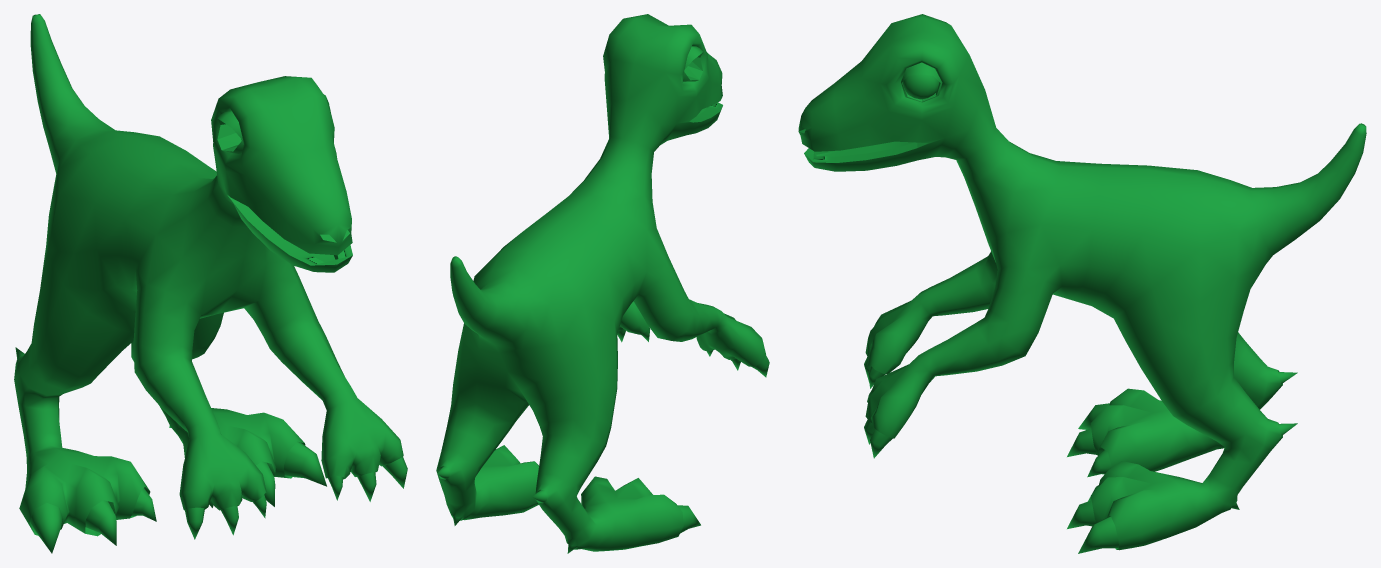
The model's file is velo.FBX.
3 views of the same model, side by side, from view 1: azimuth 30°, elevation 25°; view 2: azimuth 150°, elevation 25°; view 3: azimuth 270°, elevation 25° (orthographic). The views are drawn at different scales.
Parts seen in each view (by area): view 1: velociraptor; view 2: velociraptor; view 3: velociraptor, oeil gauche.
Part boxes in pixels (x1,y1,x2,y2): velociraptor: (14,14,407,553); velociraptor: (436,14,769,553); velociraptor: (798,14,1366,553); oeil gauche: (902,74,939,99).
Bounding box in the file's own units: 3.37 × 5.8 × 6.36.
